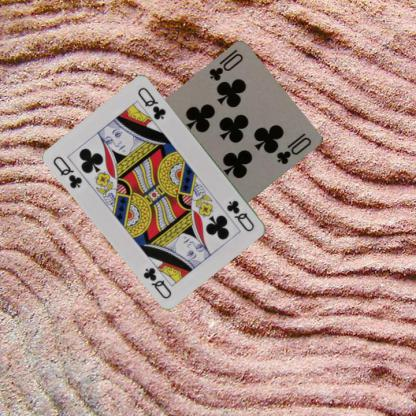10c: (206, 46, 244, 82)
Qc: (50, 154, 84, 190), (224, 198, 256, 233)
